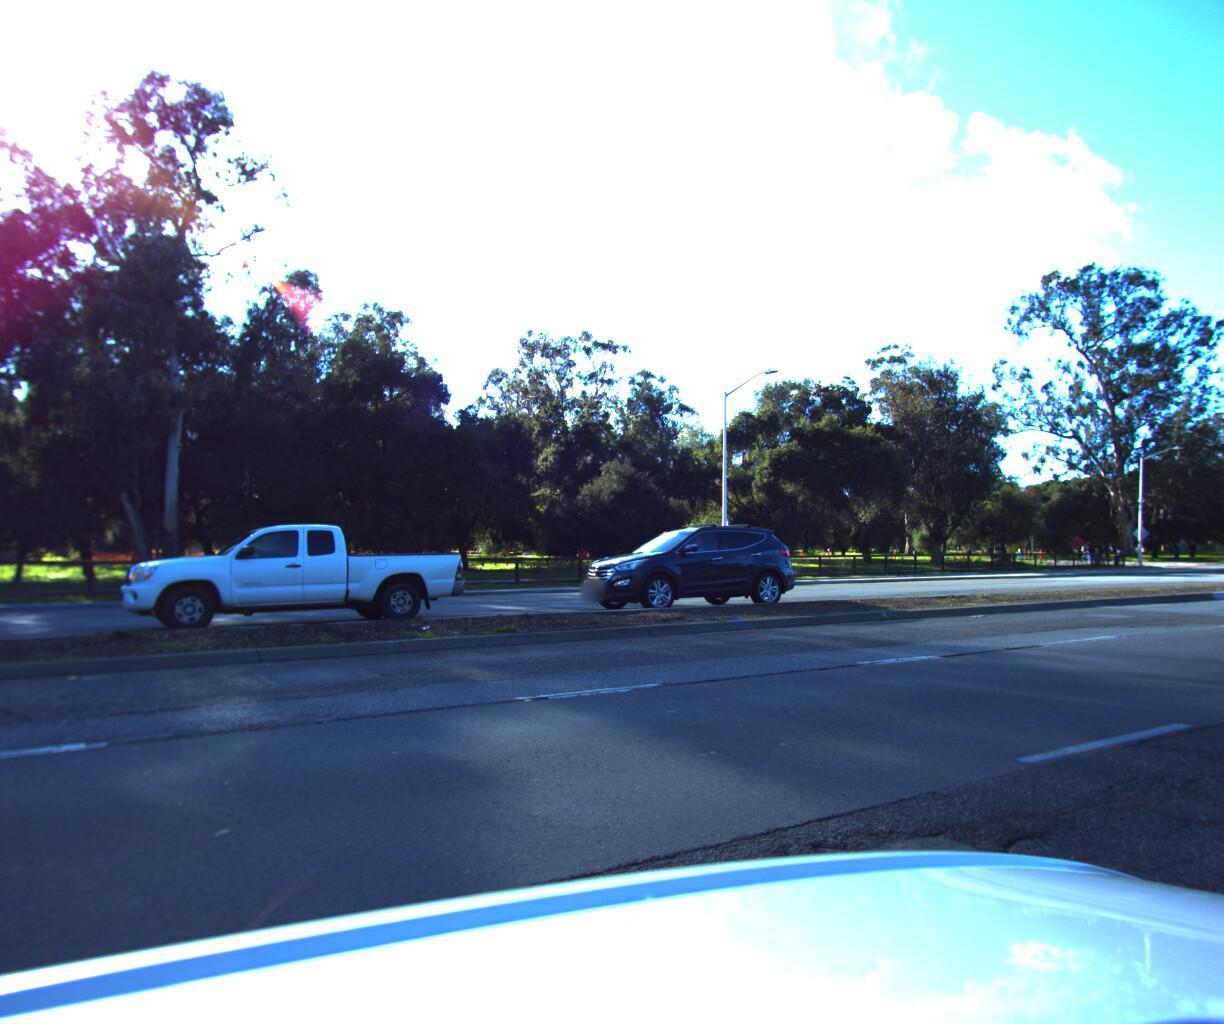car: (112, 509, 480, 640), (564, 513, 813, 615), (1223, 520, 1224, 645)
